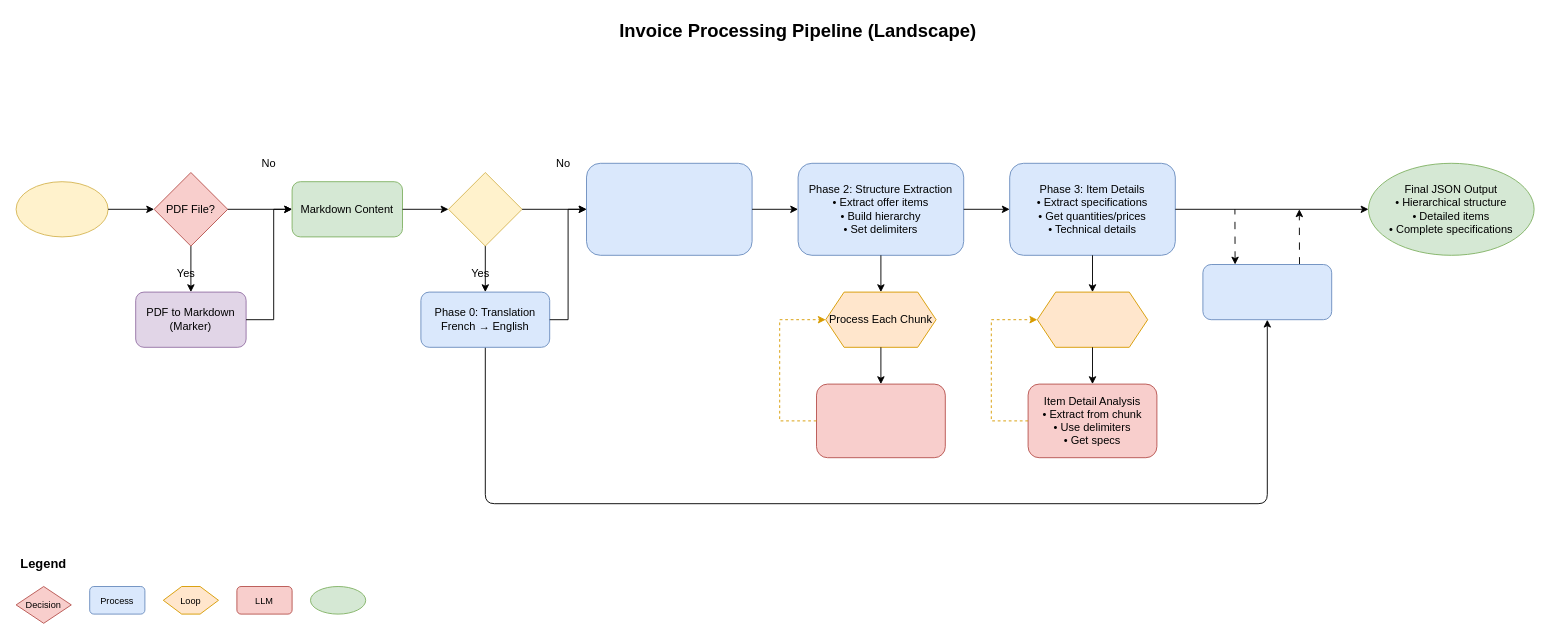
Some shapes in this 1550 by 639 pixel diagram are drawn without their labels. The shapes that lost their labels are listed below. From the top down, each one's centre as x and y in pixels, then its label:
the point at 61,209: Input File
the point at 485,209: Translation Enabled?
the point at 669,208: Phase 1: Chunking • Create overlapping chunks • Preserve context
the point at 1267,292: Phase 4: Translation English → French
the point at 1092,319: Process Each Item
the point at 880,420: LLM Analysis • Use context • Extract items • Avoid duplicates
the point at 338,600: I/O
